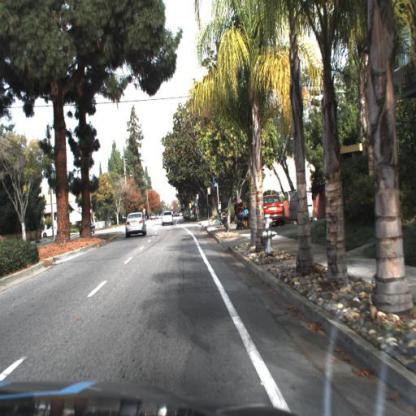car: (258, 189, 286, 230), (262, 191, 289, 230), (124, 210, 147, 237), (40, 224, 63, 243), (40, 224, 61, 242), (161, 211, 175, 228)
pedestrian: (234, 197, 244, 237), (216, 208, 230, 233), (241, 200, 252, 231), (216, 196, 226, 213)
